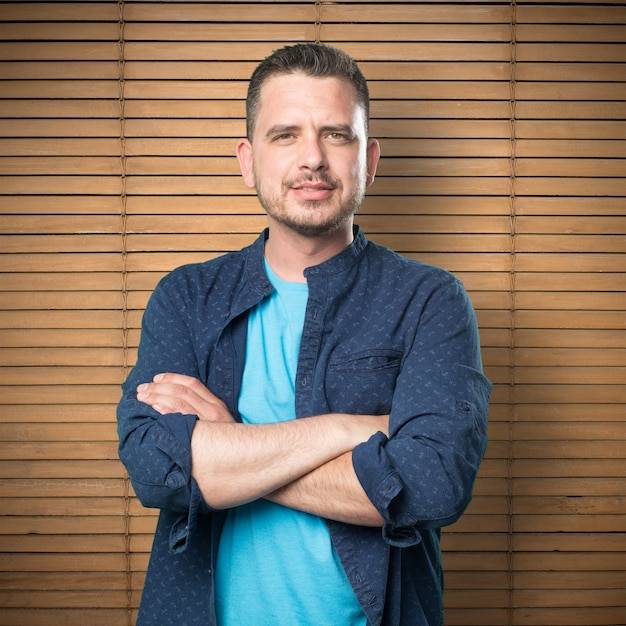young: (236, 32, 385, 226)
